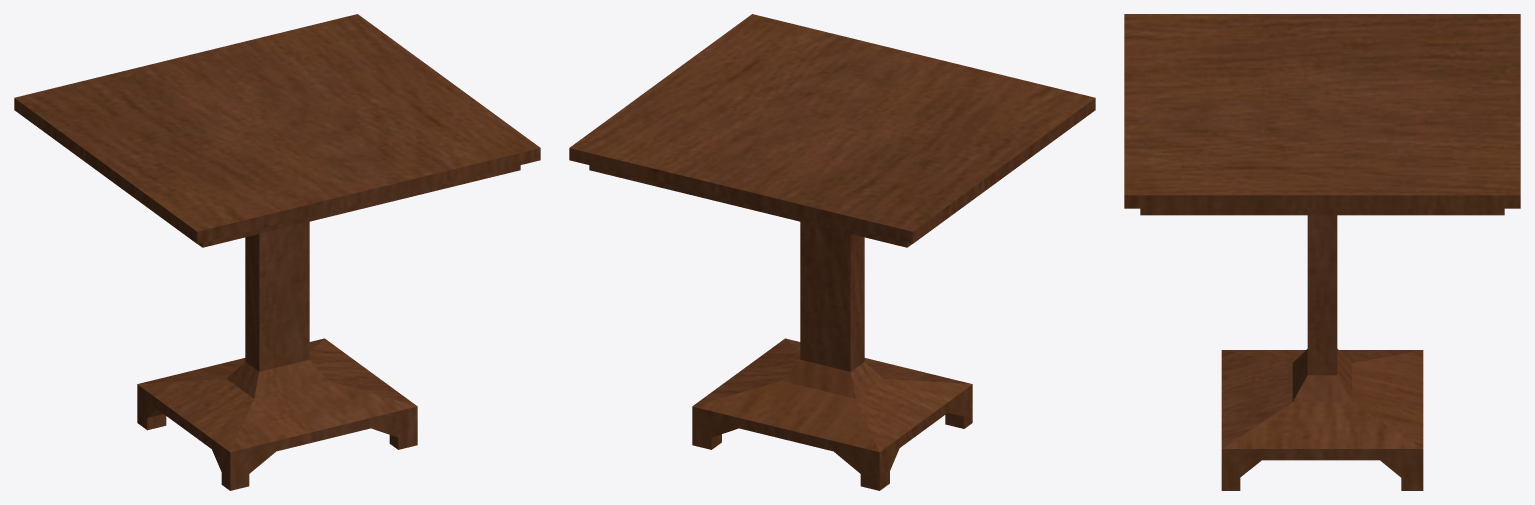
The model's file is Coffee Table.dae.
3 views of the same model, side by side, from view 1: azimuth 30°, elevation 25°; view 2: azimuth 150°, elevation 25°; view 3: azimuth 270°, elevation 25° (orthographic). The views are drawn at different scales.
Parts seen in each view (by area): view 1: SketchUp (×2); view 2: SketchUp (×2); view 3: SketchUp (×2).
Boxes of the visible parts, left/top/right/bottom form: SketchUp (×2): left=14, top=14, right=540, bottom=490; SketchUp (×2): left=569, top=14, right=1095, bottom=490; SketchUp (×2): left=1124, top=14, right=1520, bottom=490.
Bounding box in the file's own units: 34.66 × 31.99 × 29.99.
Materials: 1 (1 with a texture image).
